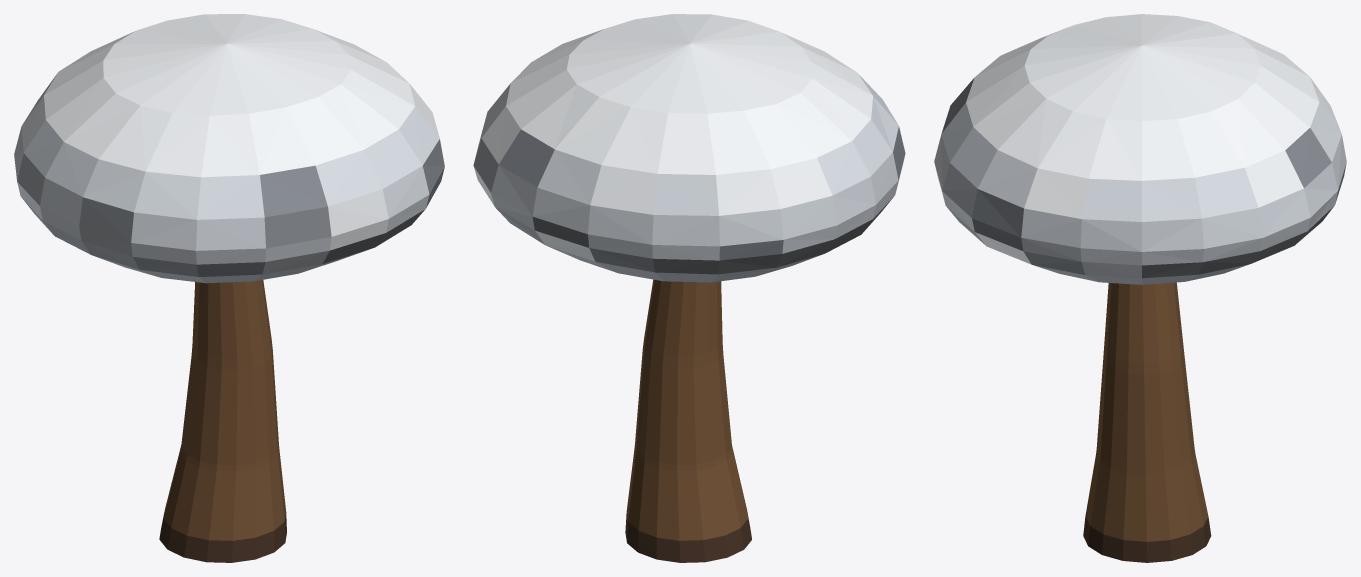
Rendered from EmberoakTreeFar.obj.
3 views of the same model, side by side, from view 1: azimuth 30°, elevation 25°; view 2: azimuth 150°, elevation 25°; view 3: azimuth 270°, elevation 25° (orthographic).
Bounding box in the file's own units: 8.71 × 11 × 8.38.
